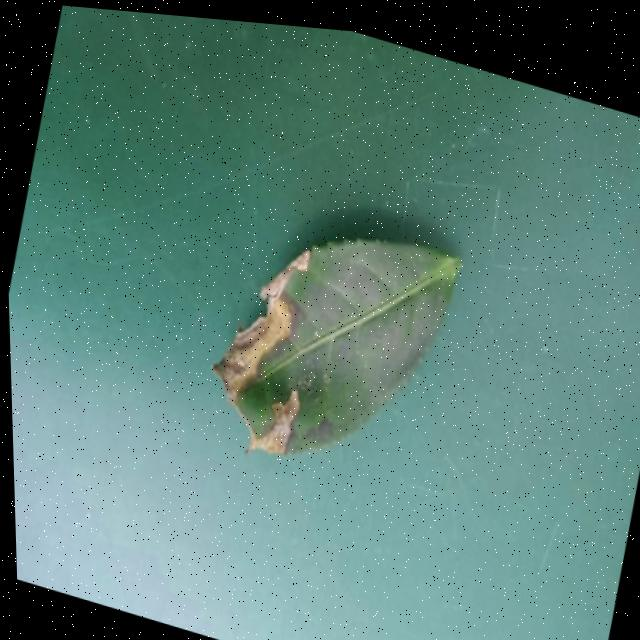Tea cloud leaf blight: (193, 255, 325, 469)
